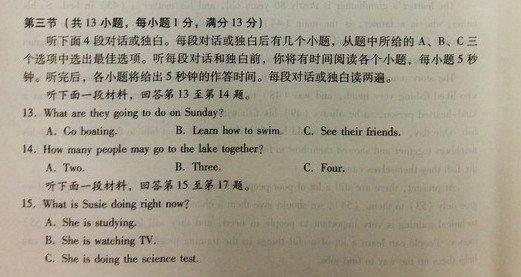text: (23, 51, 479, 67), (45, 34, 479, 47), (23, 70, 392, 85), (43, 124, 400, 138), (45, 161, 347, 176), (20, 14, 265, 29), (21, 143, 266, 156), (45, 178, 250, 193), (45, 89, 251, 103), (20, 107, 227, 120), (44, 251, 199, 266), (19, 198, 191, 211), (44, 234, 161, 247), (44, 216, 136, 229)
